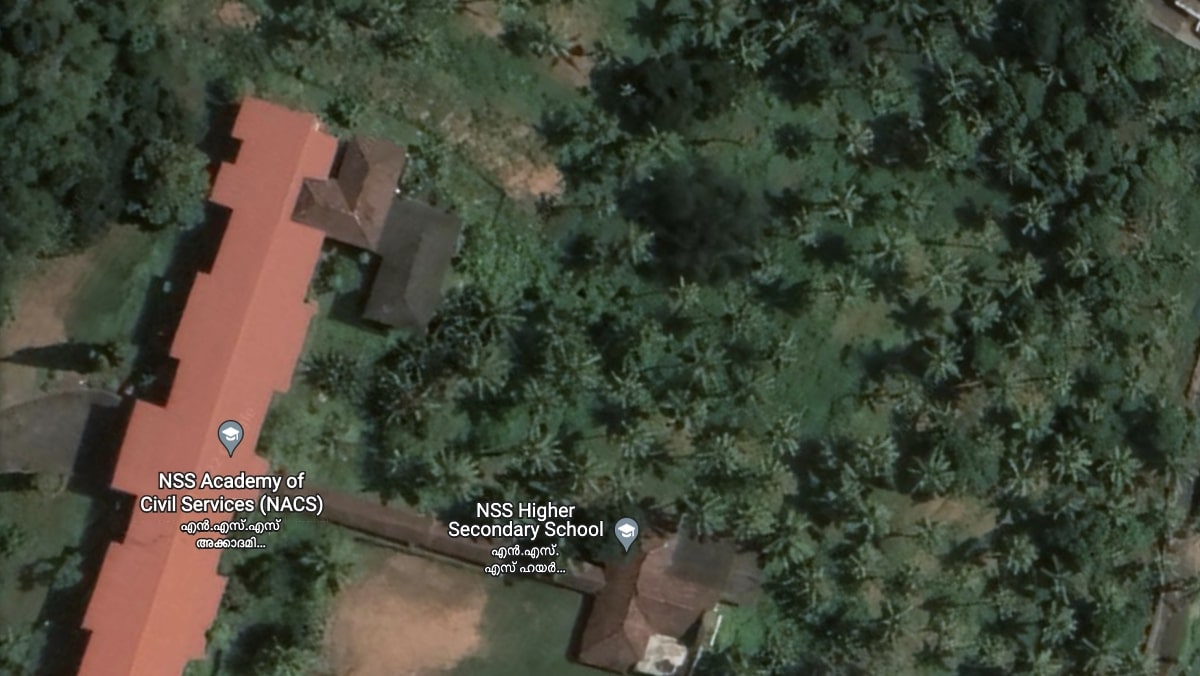coconut: (511, 14, 590, 74), (673, 1, 735, 53), (672, 487, 729, 543), (1000, 522, 1046, 587), (725, 23, 779, 76), (446, 345, 503, 395), (1044, 428, 1092, 487), (911, 452, 964, 503), (673, 347, 725, 398), (432, 452, 480, 504), (1003, 446, 1048, 501), (631, 125, 686, 170), (851, 443, 902, 491), (1003, 195, 1058, 239), (826, 263, 873, 312), (519, 430, 566, 477), (612, 418, 662, 462), (862, 504, 904, 555), (1012, 388, 1052, 441), (707, 433, 749, 483), (594, 369, 646, 409), (616, 219, 661, 265), (956, 0, 1003, 44), (876, 592, 918, 641), (956, 292, 1000, 336), (764, 411, 808, 455), (1094, 447, 1138, 491), (926, 247, 967, 293), (927, 341, 964, 391), (984, 587, 1029, 628), (998, 135, 1037, 182), (1011, 253, 1048, 301), (937, 71, 981, 111), (1044, 603, 1083, 648), (837, 120, 880, 160), (845, 544, 878, 596), (1058, 244, 1102, 281), (886, 0, 932, 35), (786, 217, 826, 254), (747, 249, 787, 286), (753, 457, 793, 493), (829, 187, 870, 222), (664, 277, 703, 313), (984, 631, 1019, 671), (740, 503, 776, 541), (1048, 367, 1081, 397)
